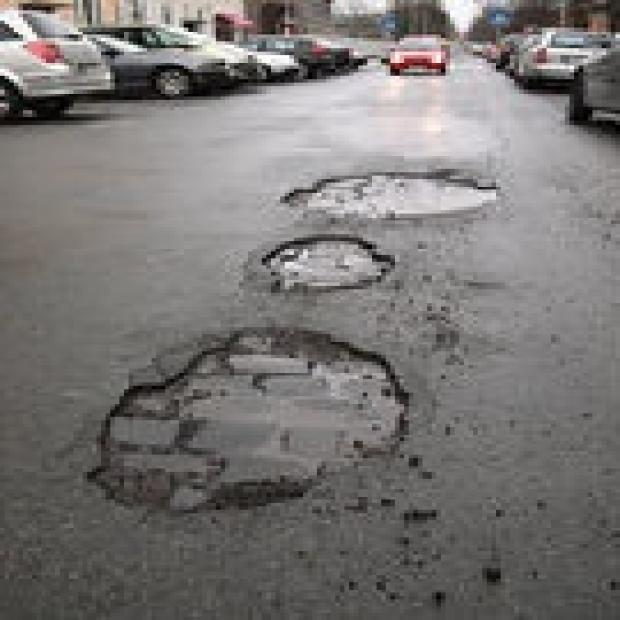lubang: (87, 331, 400, 510), (285, 172, 496, 217), (262, 234, 390, 286)
